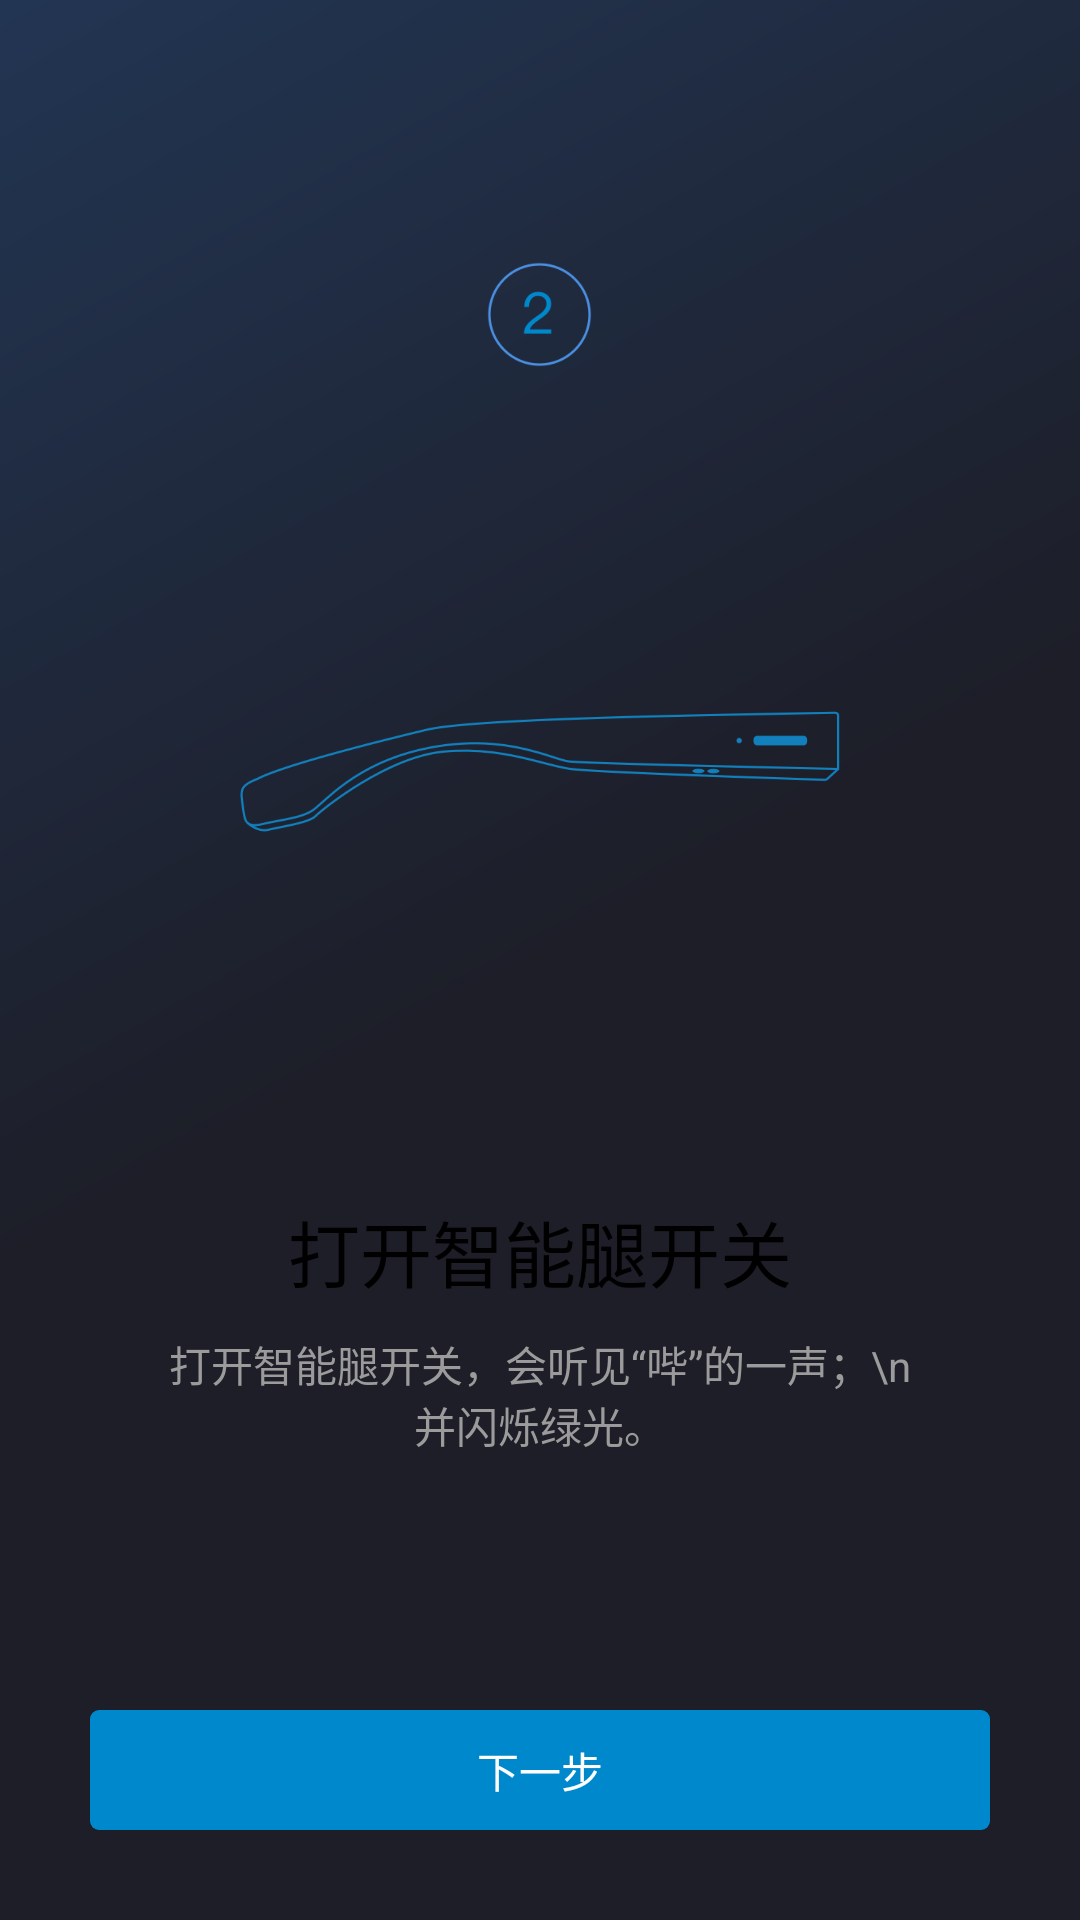

Screen size 1080*1920. Icon name, then its center in pixels as point (x, y):
guide num: point (539, 314)
